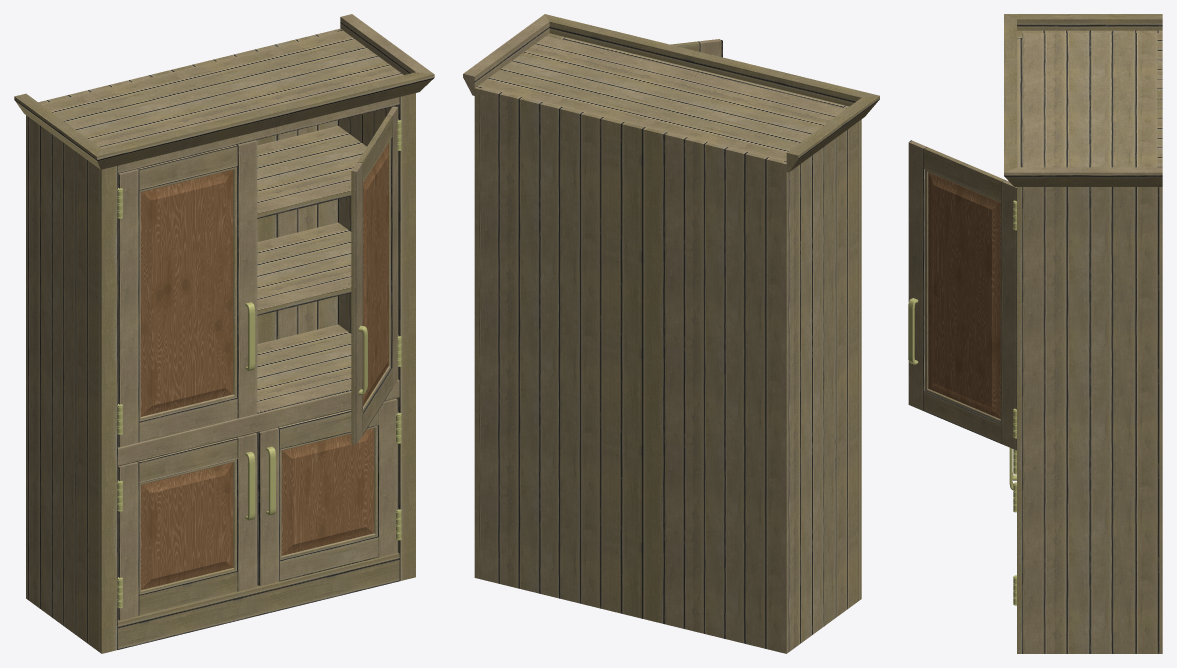
The picture shows the model from 3 angles, left to right: view 1: azimuth 30°, elevation 25°; view 2: azimuth 150°, elevation 25°; view 3: azimuth 270°, elevation 25°; orthographic projection. The views are drawn at different scales.
Parts seen in each view (by area): view 1: Material2 (×14); view 2: Material2 (×2); view 3: Material2 (×4), Material3.
Boxes of the visible parts, bbox=[...] form: Material2 (×14): bbox=[14, 14, 434, 653]; Material2 (×2): bbox=[463, 14, 879, 653]; Material2 (×4): bbox=[908, 14, 1162, 653]; Material3: bbox=[908, 298, 918, 364].
Size of the model in its own units: 51.56 by 73.71 by 34.94.
5 materials, 2 textured.
